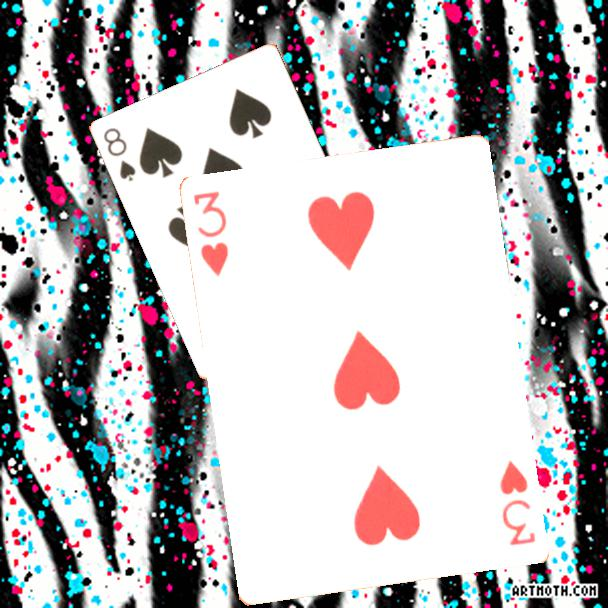h03: (496, 457, 539, 549), (191, 188, 232, 280)
s08: (100, 124, 139, 184)
